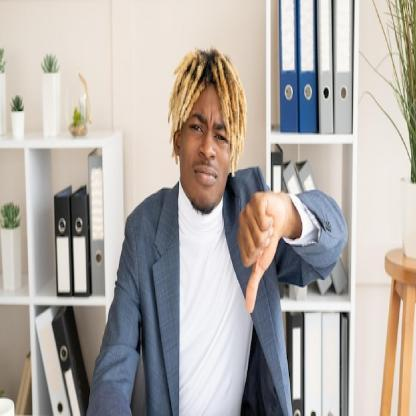thumb_down: (236, 186, 284, 318)
